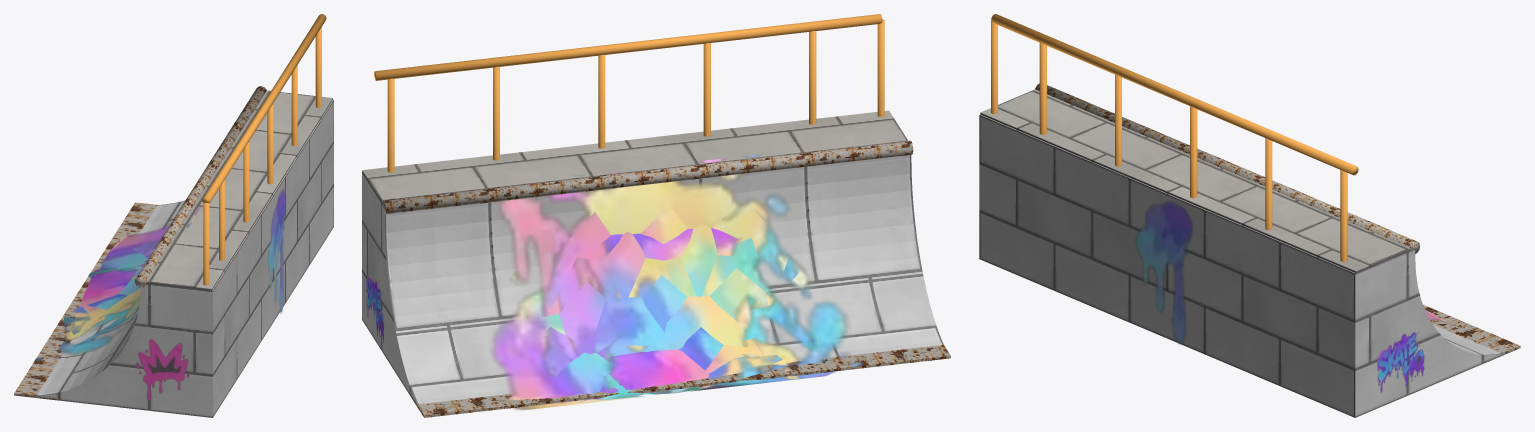
The model's file is Plat_QP_SE.glb.
3 views of the same model, side by side, from view 1: azimuth 30°, elevation 25°; view 2: azimuth 150°, elevation 25°; view 3: azimuth 270°, elevation 25° (orthographic). The views are drawn at different scales.
Visible parts, largest first — view 1: Plat_QP_SE_Body, Plat_QP_SE_Deck, Plat_QP_SE_Paint, Plat_QP_SE_Coping, Plat_QP_SE_BackRail, Plat_QP_SE_GfxL; view 2: Plat_QP_SE_Paint, Plat_QP_SE_Body, Plat_QP_SE_Deck, Plat_QP_SE_Coping, Plat_QP_SE_BackRail, Plat_QP_SE_GfxL; view 3: Plat_QP_SE_Body, Plat_QP_SE_Deck, Plat_QP_SE_BackRail, Plat_QP_SE_Coping, Plat_QP_SE_Paint, Plat_QP_SE_GfxL.
Part boxes in pixels (left/top/right/bottom): Plat_QP_SE_Body: left=17, top=99, right=333, bottom=417; Plat_QP_SE_Deck: left=141, top=90, right=332, bottom=290; Plat_QP_SE_Paint: left=34, top=188, right=286, bottom=360; Plat_QP_SE_Coping: left=14, top=86, right=266, bottom=400; Plat_QP_SE_BackRail: left=202, top=14, right=326, bottom=285; Plat_QP_SE_GfxL: left=136, top=339, right=189, bottom=401; Plat_QP_SE_Paint: left=490, top=154, right=863, bottom=410; Plat_QP_SE_Body: left=362, top=155, right=943, bottom=410; Plat_QP_SE_Deck: left=362, top=110, right=907, bottom=203; Plat_QP_SE_Coping: left=383, top=140, right=950, bottom=417; Plat_QP_SE_BackRail: left=374, top=14, right=884, bottom=172; Plat_QP_SE_GfxL: left=366, top=276, right=383, bottom=342; Plat_QP_SE_Body: left=979, top=114, right=1517, bottom=417; Plat_QP_SE_Deck: left=980, top=89, right=1414, bottom=272; Plat_QP_SE_BackRail: left=991, top=14, right=1358, bottom=261; Plat_QP_SE_Coping: left=1035, top=83, right=1520, bottom=363; Plat_QP_SE_Paint: left=1135, top=136, right=1449, bottom=343; Plat_QP_SE_GfxL: left=1377, top=332, right=1424, bottom=392.
Size of the model in its own units: 5.09 by 2.58 by 5.09.
5 materials, 4 textured.
